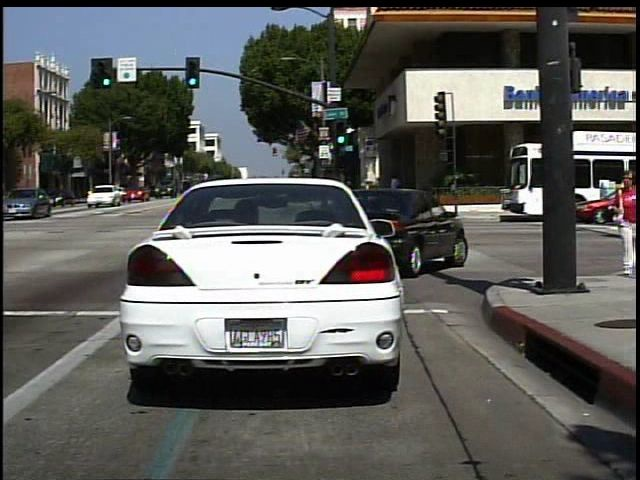person: (607, 166, 639, 276), (386, 170, 405, 212)
